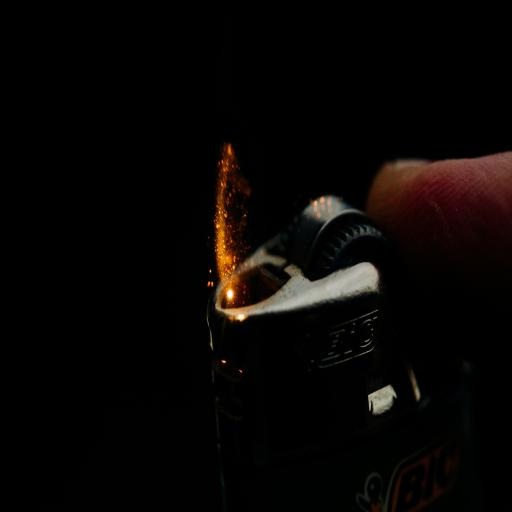lighter: (182, 119, 512, 511)
